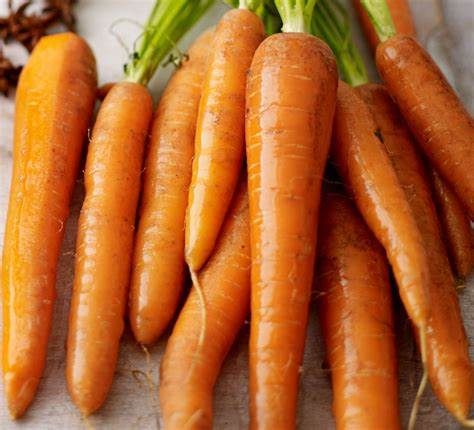Carrot: (236, 26, 343, 430), (0, 29, 105, 423), (116, 20, 225, 363), (54, 75, 160, 425), (320, 74, 437, 327), (171, 1, 266, 272), (307, 172, 403, 430), (369, 30, 474, 214)
